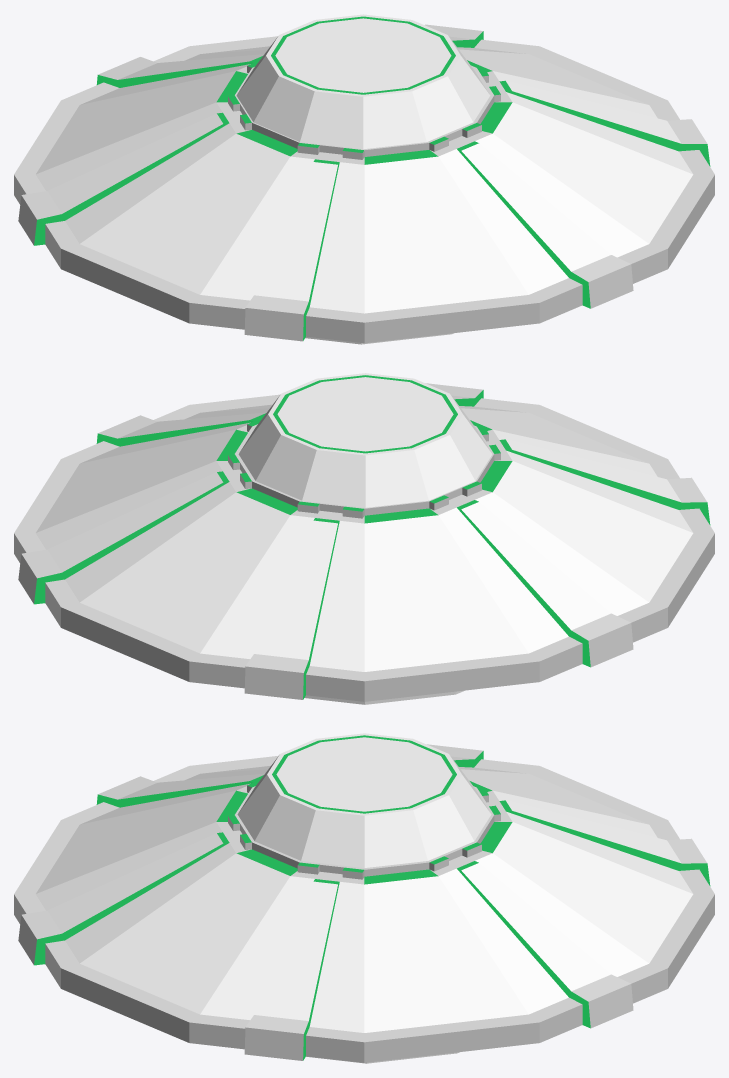
The model's file is ufo.glb.
The picture shows the model from 3 angles, top to bottom: view 1: azimuth 30°, elevation 25°; view 2: azimuth 150°, elevation 25°; view 3: azimuth 270°, elevation 25°; orthographic projection.
Parts seen in each view (by area): view 1: ufo; view 2: ufo; view 3: ufo.
Boxes of the visible parts, x1=… form: ufo: x1=14, y1=14, x2=714, y2=344; ufo: x1=14, y1=373, x2=714, y2=704; ufo: x1=14, y1=733, x2=714, y2=1063.
Bounding box in the file's own units: 22.94 × 8.19 × 22.94.
